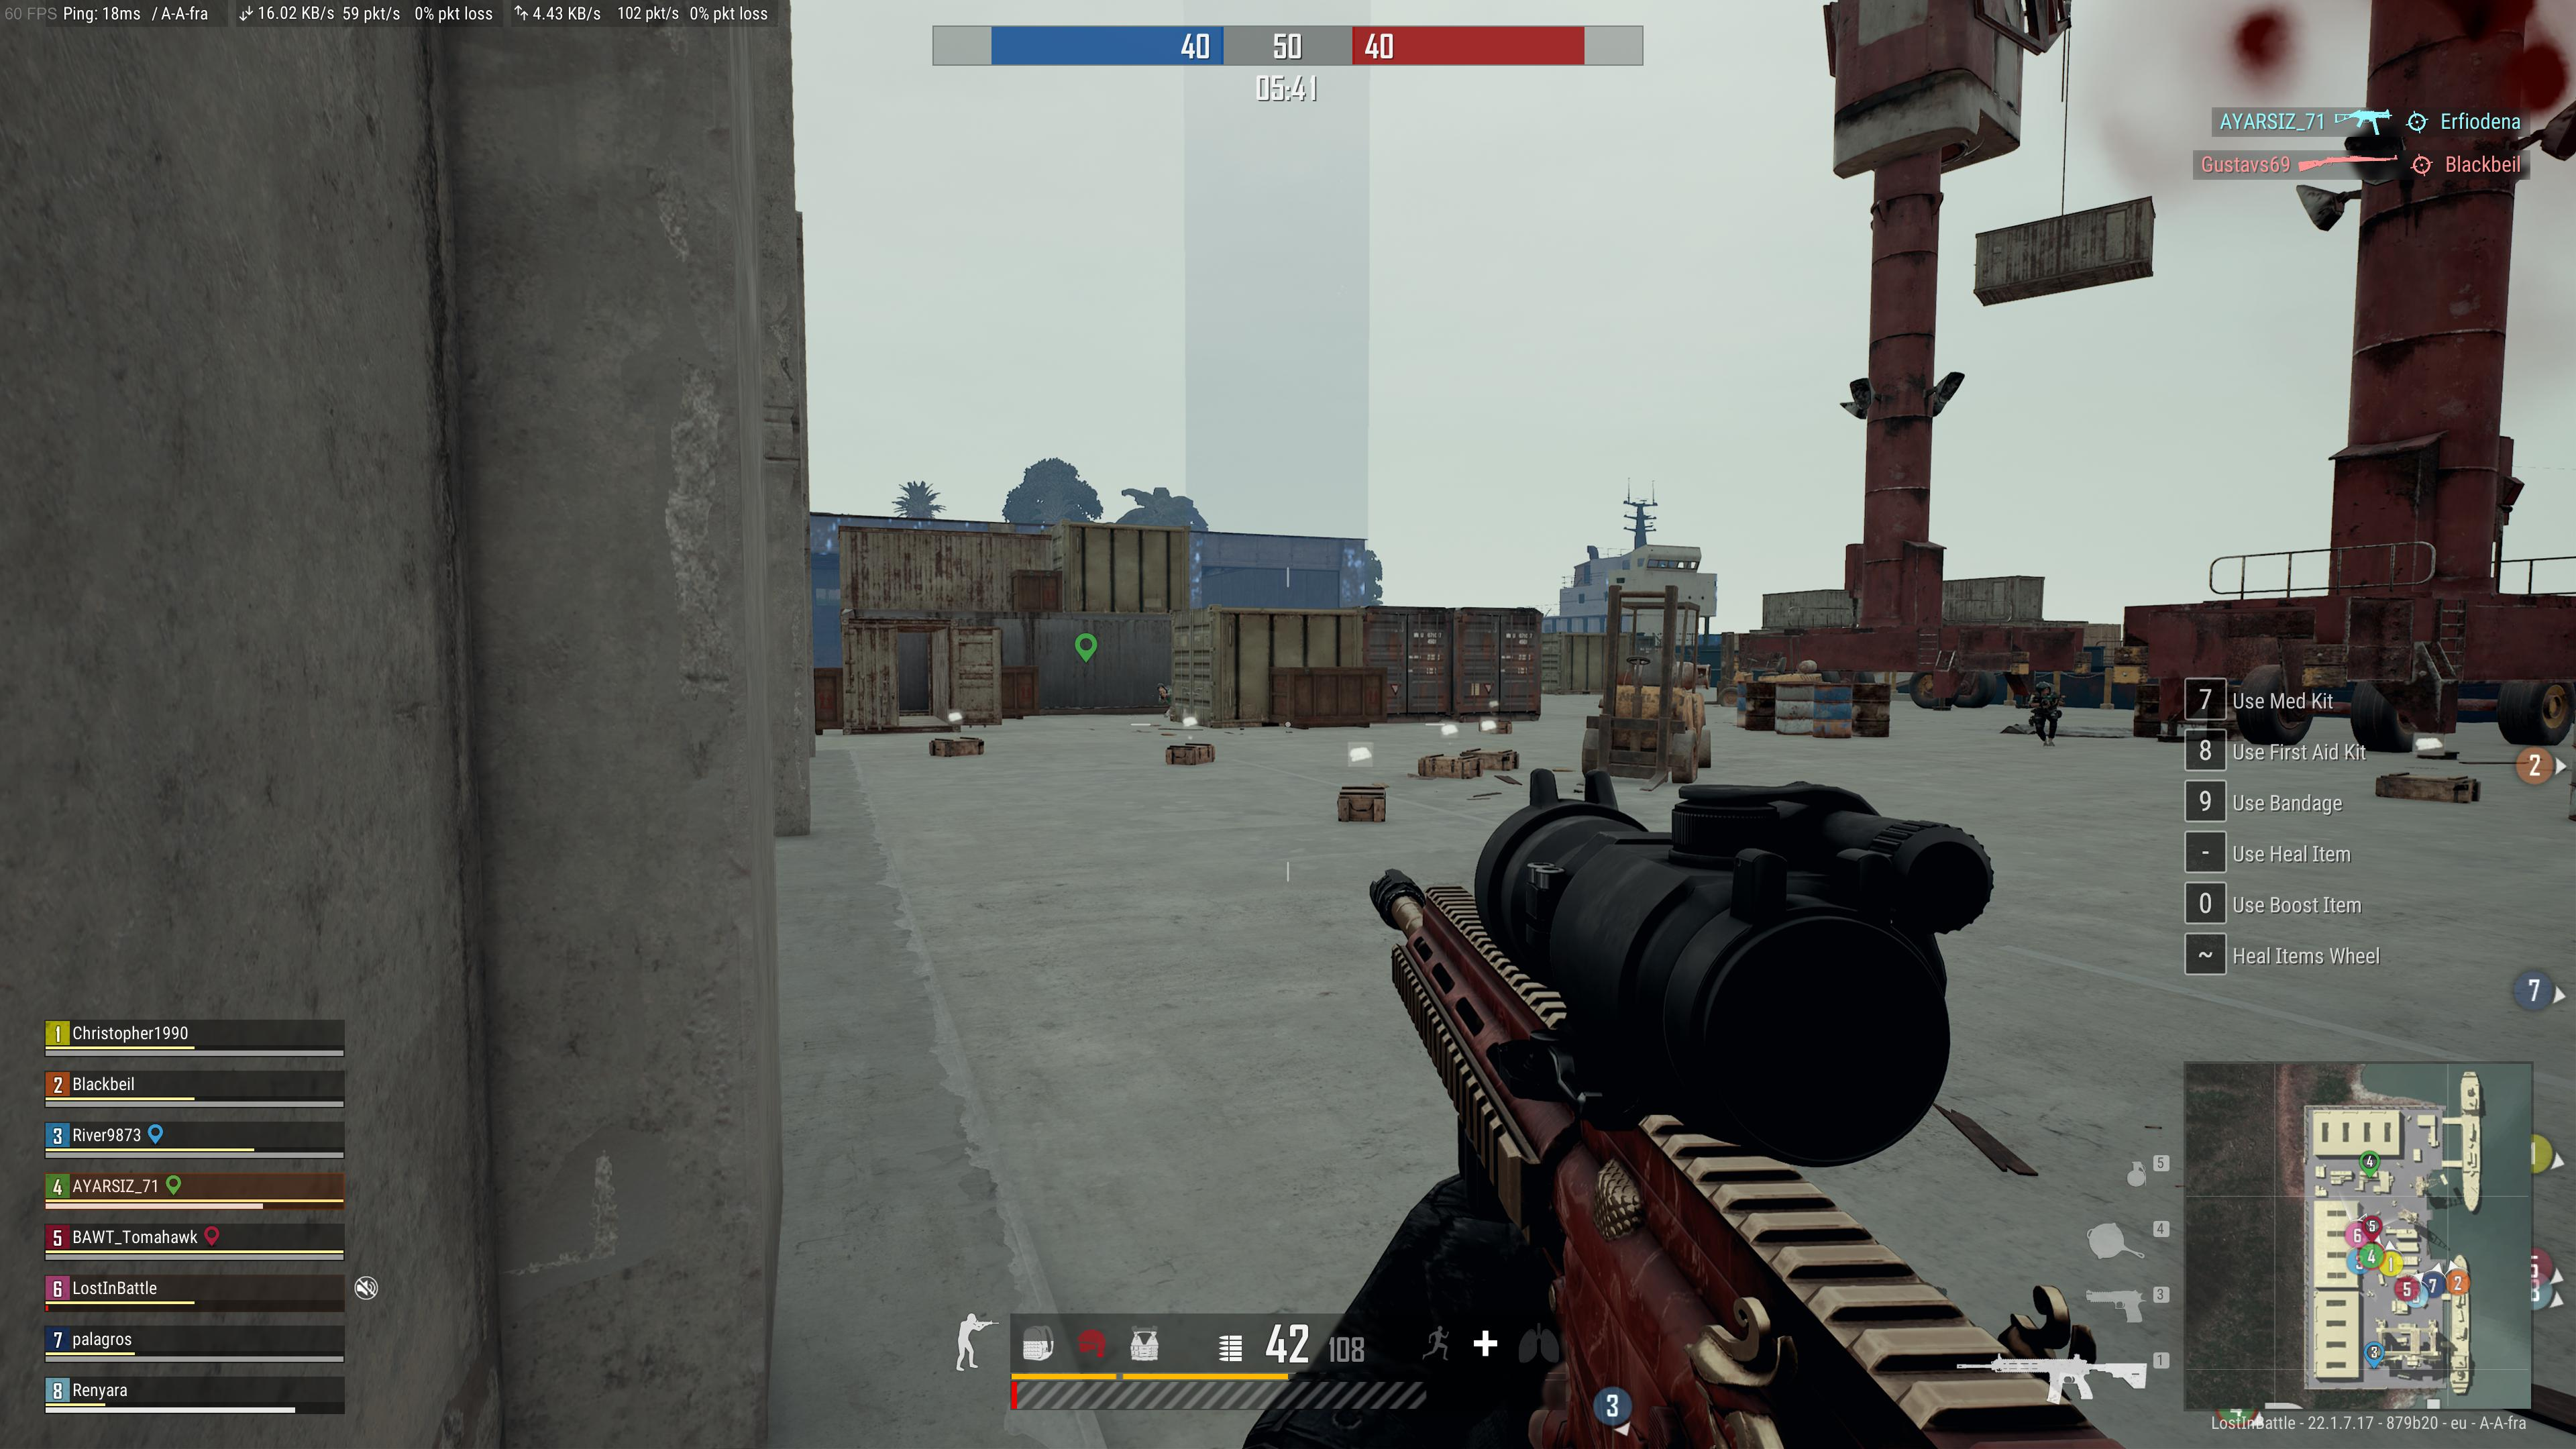enemy: (2026, 679, 2063, 747), (1155, 681, 1171, 718)
enemy_head: (2035, 679, 2051, 697), (1155, 681, 1166, 694)
